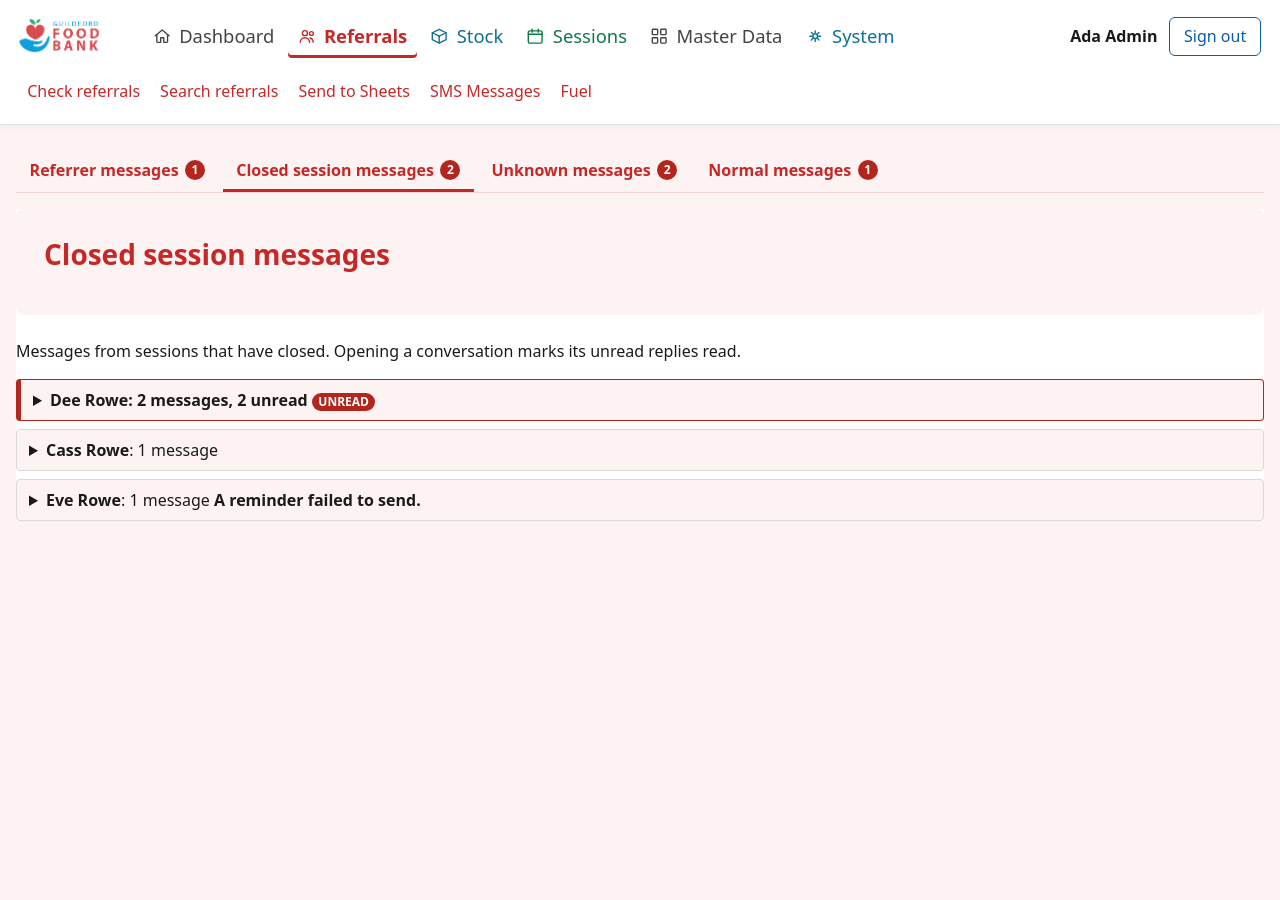
SmsInboxLayout — replying › replies to a closed-session thread through its most recent referral
Click the text "Dee Rowe" at {"x": 89, "y": 400}, box [50,388,128,412]
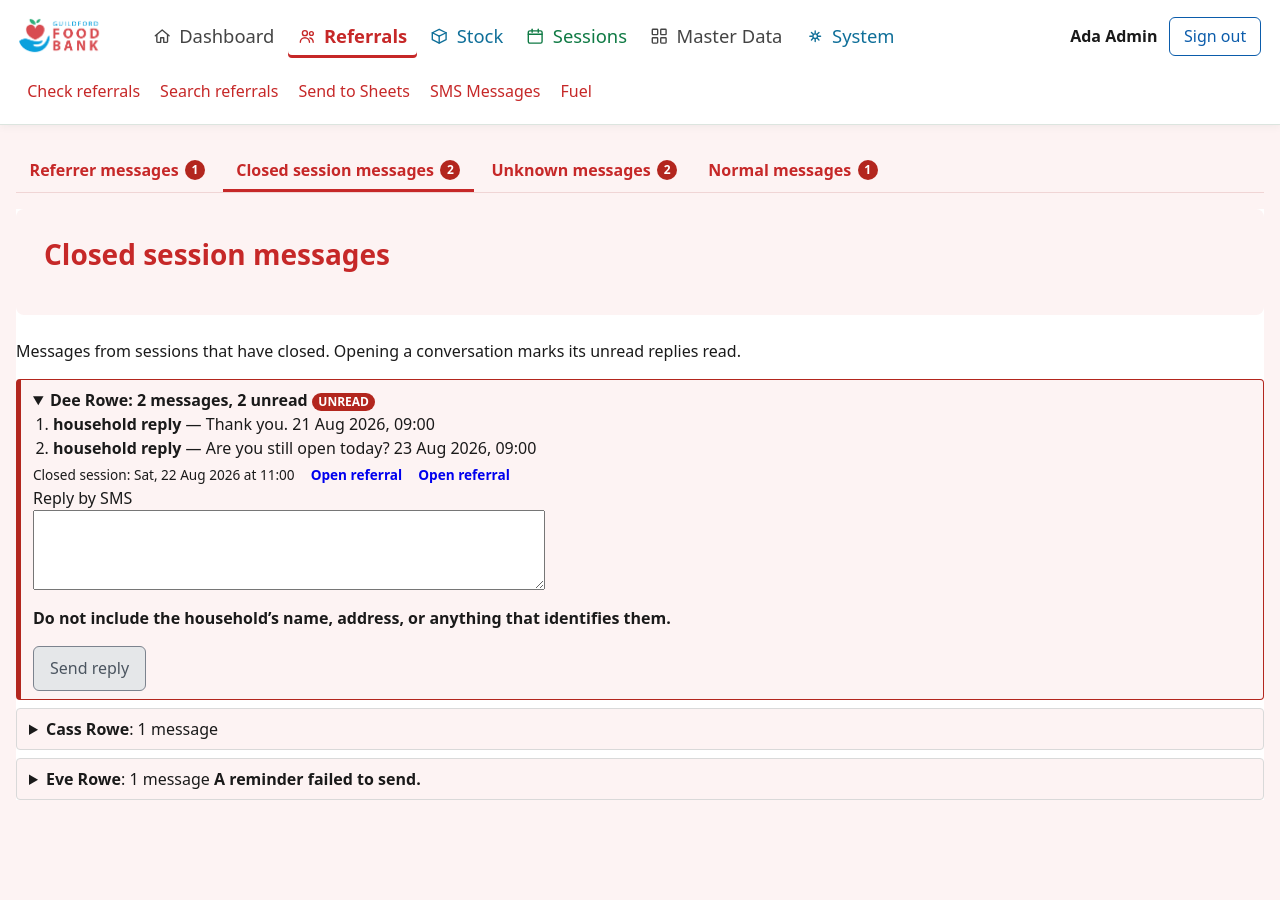
Expected: the text "Do not include the household’s name, address, or anything that identifies them." is shown, [33,607,671,629]
Type "See you then." into the text box labelled "Reply by SMS" at {"x": 289, "y": 550}, box [33,510,545,590]
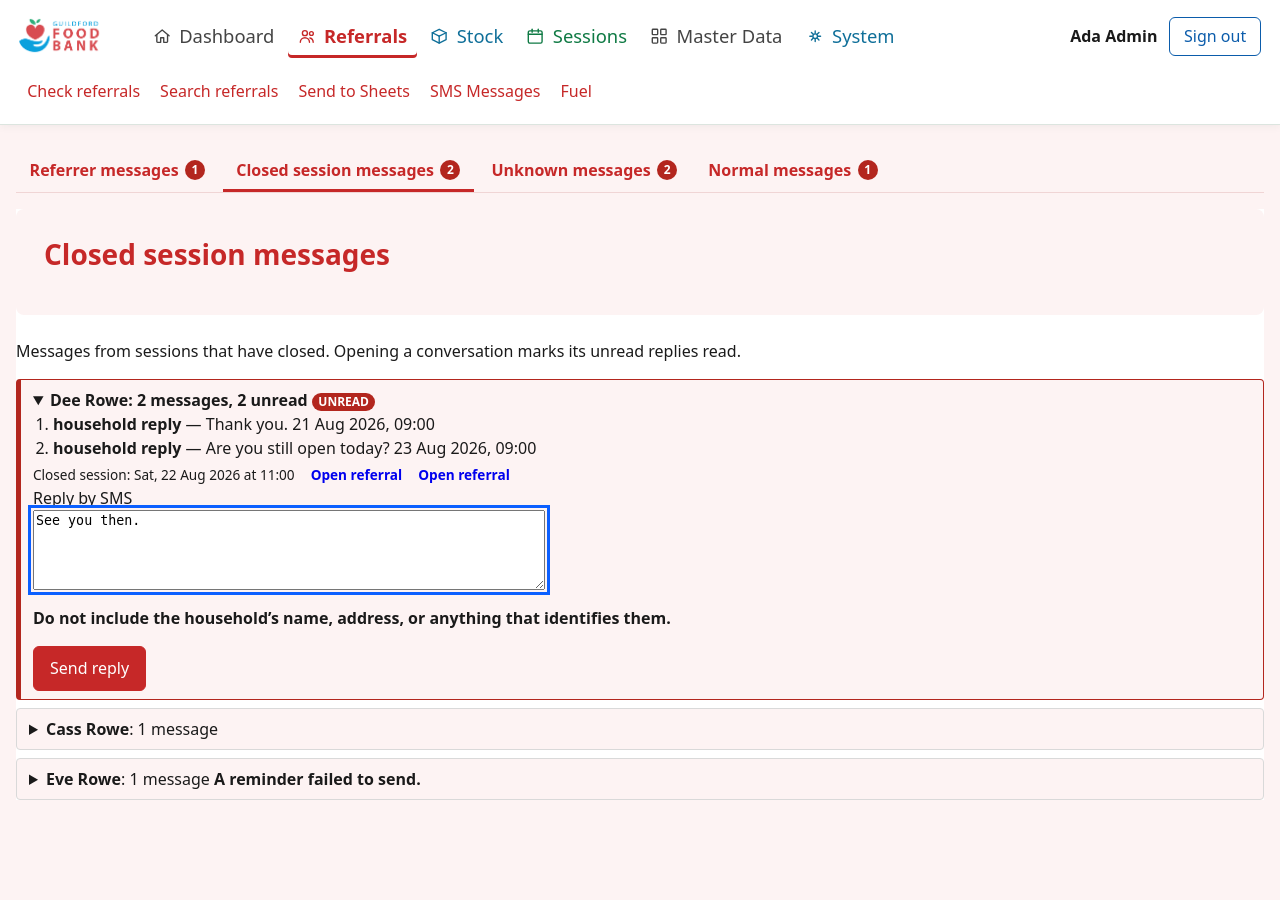
Click the button "Send reply" at {"x": 90, "y": 668}, box [33,646,146,691]
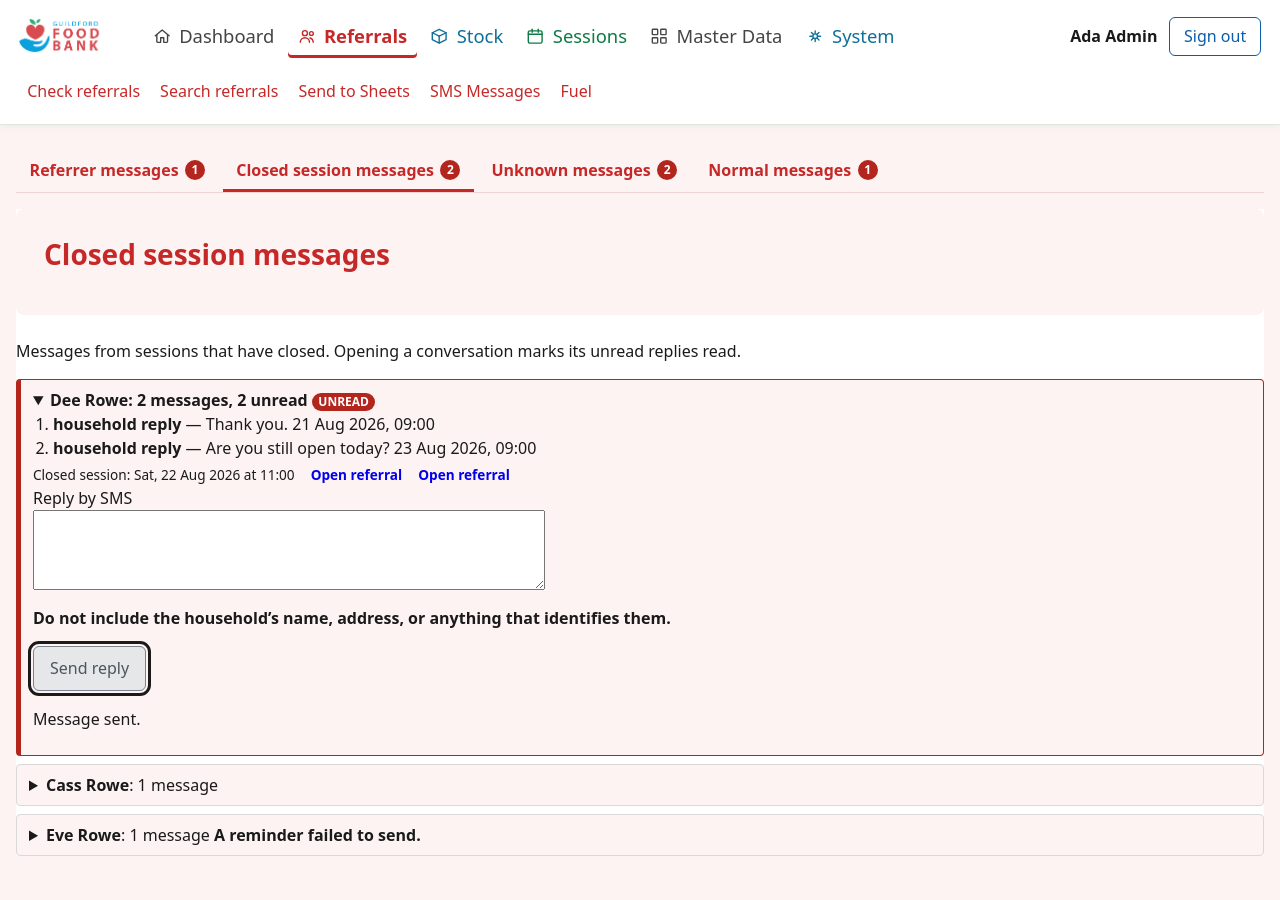
Expected: the message reads "Message sent.", [33,708,140,730]
